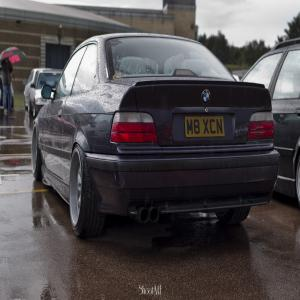Vehicle-registration-plate: (186, 118, 226, 137)
